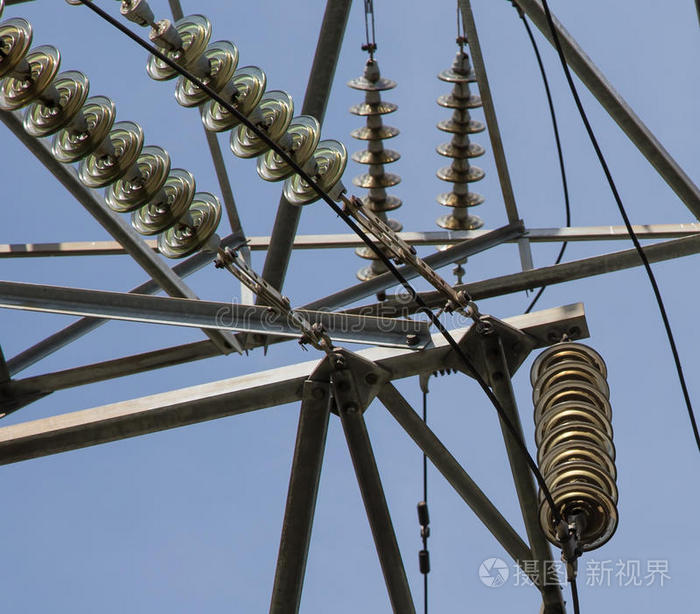insulator: (1, 17, 221, 259), (147, 15, 345, 205), (529, 344, 622, 551), (347, 69, 409, 292), (432, 63, 487, 260)
